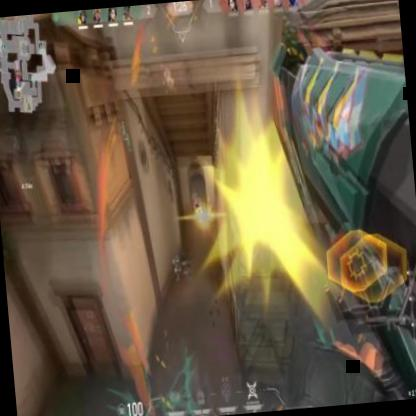enemy: (204, 200, 218, 238), (192, 192, 204, 228), (206, 197, 217, 230), (194, 201, 204, 237)
enemy_head: (209, 203, 212, 210), (193, 190, 196, 194), (196, 204, 199, 208), (208, 197, 210, 201)
